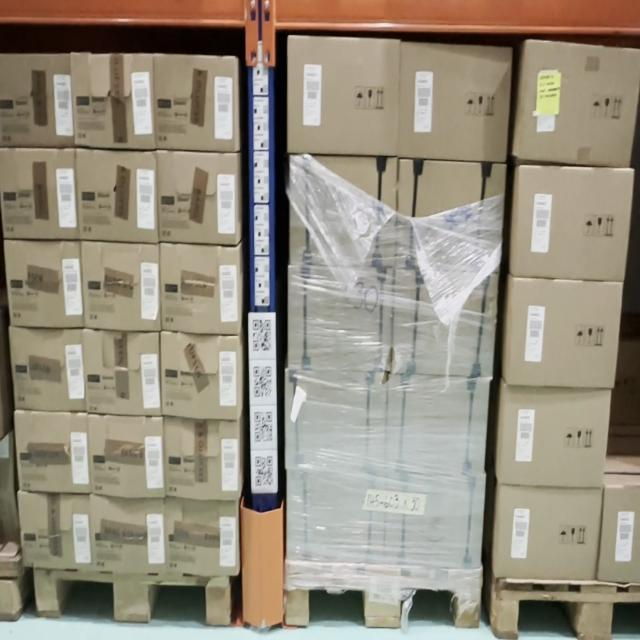box: (512, 161, 635, 281), (292, 30, 400, 158), (505, 278, 625, 388), (403, 41, 507, 158), (289, 158, 394, 264), (285, 271, 394, 370), (504, 391, 612, 490), (403, 164, 500, 272), (497, 482, 606, 576), (396, 269, 492, 371), (286, 372, 385, 468), (385, 474, 482, 569), (288, 470, 381, 569), (391, 382, 483, 472), (74, 52, 156, 148), (158, 241, 241, 334), (75, 150, 155, 242), (157, 58, 239, 146), (158, 150, 236, 242), (7, 328, 85, 412), (0, 57, 72, 148), (164, 332, 237, 419), (0, 154, 76, 237), (80, 249, 158, 328), (86, 330, 159, 414), (7, 243, 83, 322), (16, 490, 91, 568), (92, 500, 168, 572), (15, 415, 87, 487), (169, 502, 238, 576), (89, 420, 161, 490), (165, 425, 240, 491)
